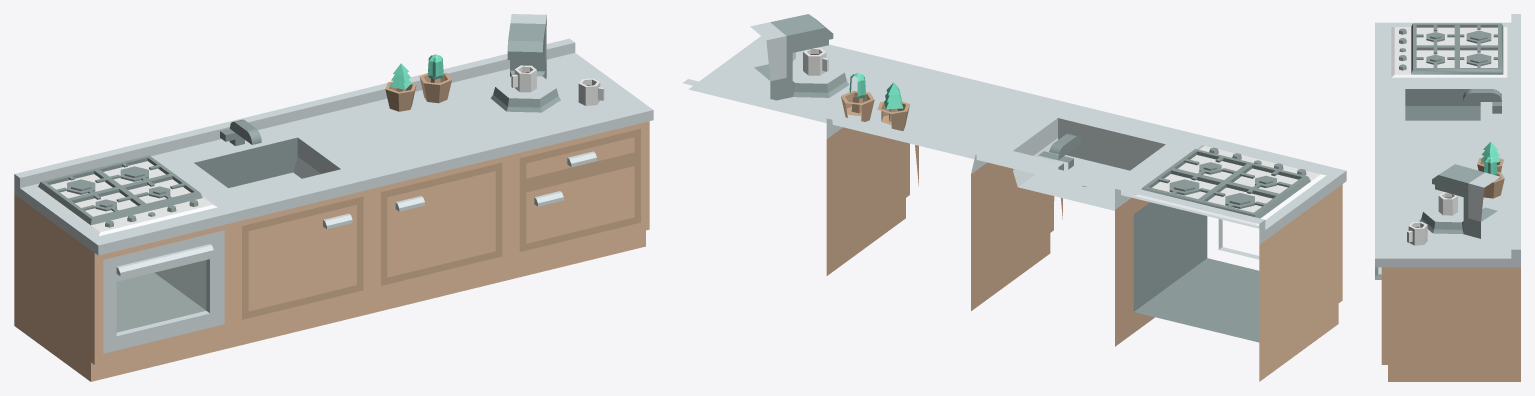
Rendered from cucina.glb.
3 views of the same model, side by side, from view 1: azimuth 30°, elevation 25°; view 2: azimuth 150°, elevation 25°; view 3: azimuth 270°, elevation 25° (orthographic). The views are drawn at different scales.
Parts seen in each view (by area): view 1: cucina; view 2: cucina; view 3: cucina.
Boxes of the visible parts, box(x1,y1,x2,y2) form: cucina: box(14, 14, 653, 381); cucina: box(682, 14, 1346, 381); cucina: box(1375, 14, 1520, 381).
Size of the model in its own units: 1.72 by 0.5974 by 0.45.
